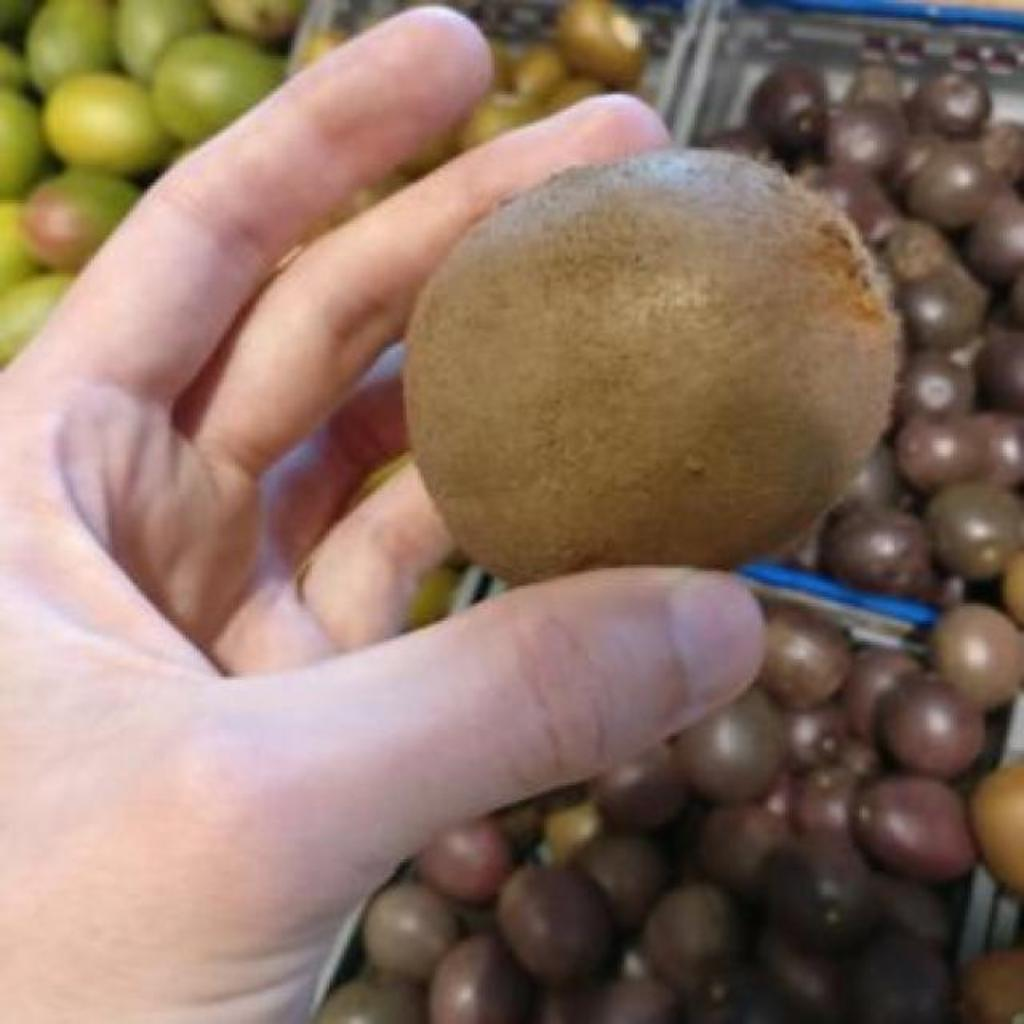kiwi: (408, 152, 896, 579)
